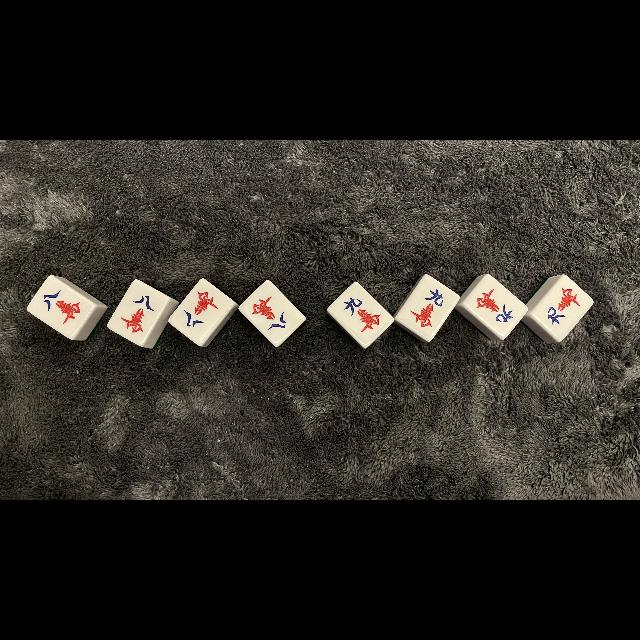c8: (36, 284, 90, 330), (246, 288, 294, 336), (116, 289, 160, 337), (178, 285, 222, 333)
c9: (469, 281, 521, 329), (336, 289, 384, 337), (406, 283, 450, 331), (540, 282, 584, 328)
